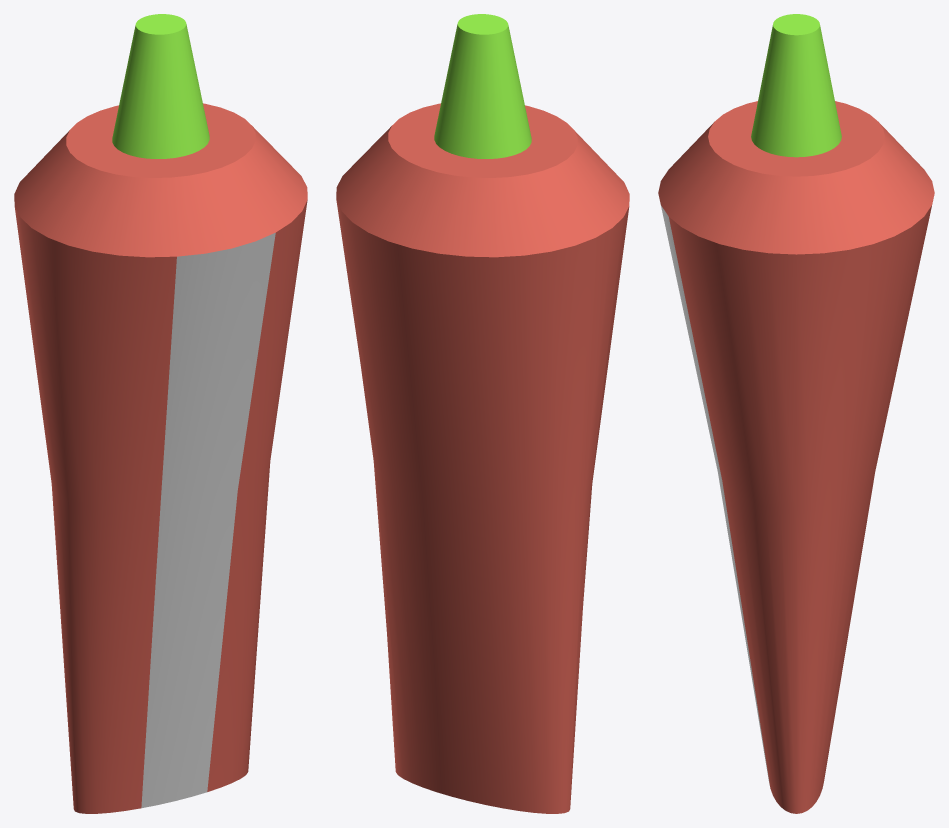
Rendered from 2 toothpaste.fbx.
3 renders of one model, left to right at view 1: azimuth 30°, elevation 25°; view 2: azimuth 150°, elevation 25°; view 3: azimuth 270°, elevation 25°, orthographic. The views are drawn at different scales.
Visible parts, largest first — view 1: 2 toothpaste; view 2: 2 toothpaste; view 3: 2 toothpaste.
Part boxes in pixels (bbox=[...]): 2 toothpaste: bbox=[14, 14, 307, 813]; 2 toothpaste: bbox=[336, 14, 629, 813]; 2 toothpaste: bbox=[658, 14, 934, 813].
Bounding box in the file's own units: 4.41 × 12.51 × 4.19.
